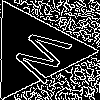W: (9, 25, 82, 90)
